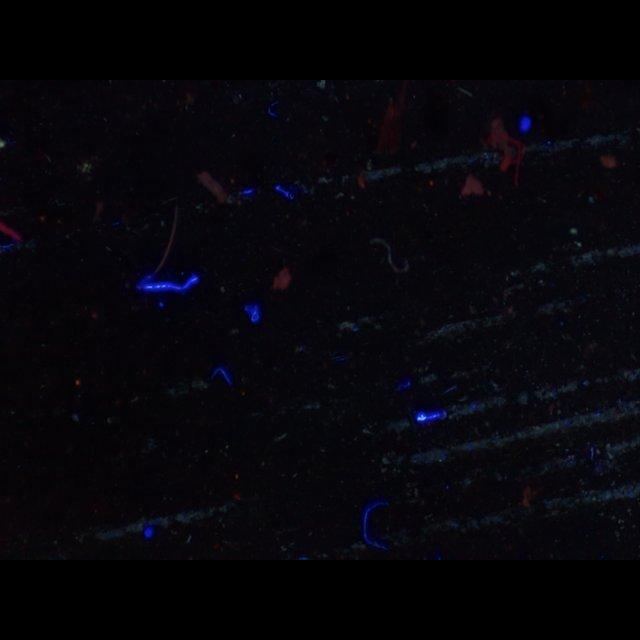Fibre: (367, 232, 409, 274)
